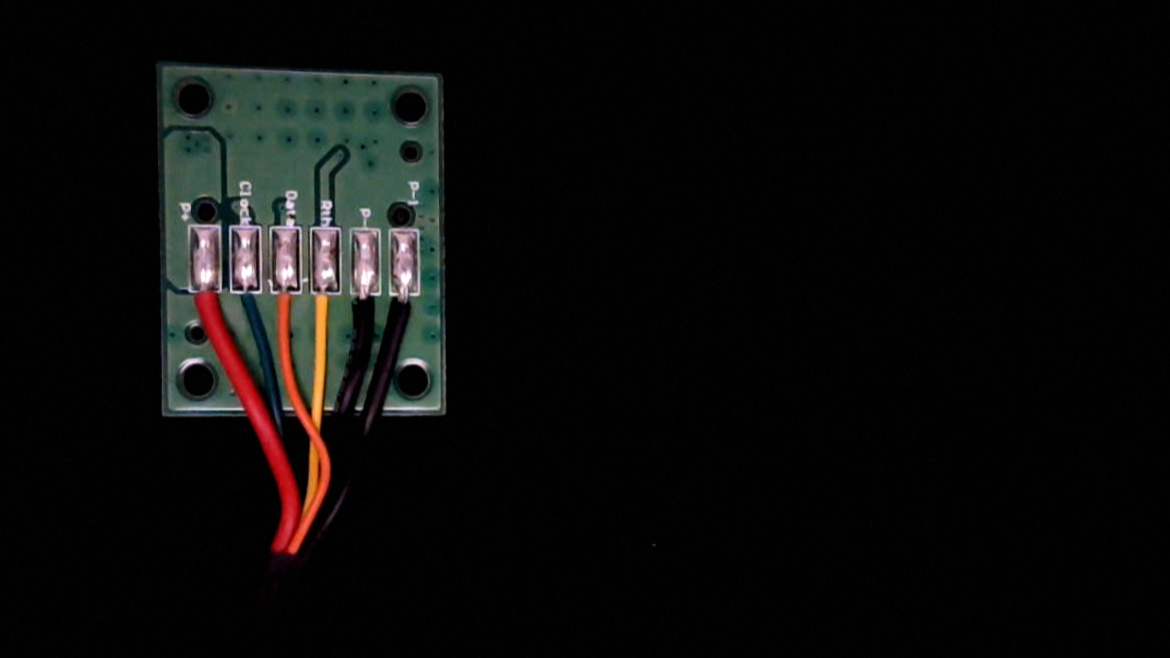Black: (349, 279, 377, 343)
Black1: (389, 280, 420, 341)
Green: (230, 277, 265, 333)
Orange: (271, 277, 302, 337)
Red: (187, 277, 222, 338)
Yellow: (308, 278, 341, 344)
